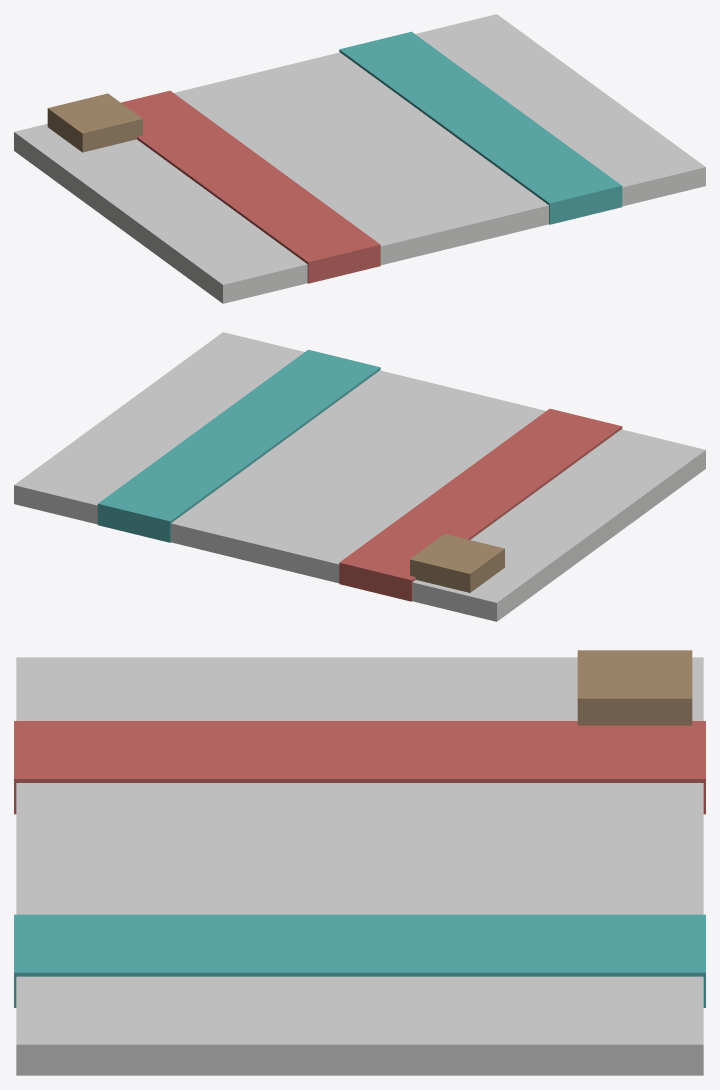
File: textil_pano_prato2.glb
3 renders of one model, top to bottom at view 1: azimuth 30°, elevation 25°; view 2: azimuth 150°, elevation 25°; view 3: azimuth 270°, elevation 25°, orthographic. The views are drawn at different scales.
Parts seen in each view (by area): view 1: TEXTIL_PANO_PRATO2_v01; view 2: TEXTIL_PANO_PRATO2_v01; view 3: TEXTIL_PANO_PRATO2_v01.
Part boxes in pixels (x1,y1,x2,y2): TEXTIL_PANO_PRATO2_v01: [14, 14, 705, 303]; TEXTIL_PANO_PRATO2_v01: [14, 332, 705, 621]; TEXTIL_PANO_PRATO2_v01: [14, 650, 705, 1075].
Size of the model in its own units: 0.4 by 0.03 by 0.302.
